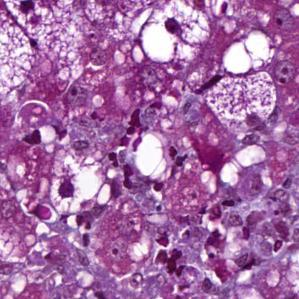ballooning: (129, 3, 210, 66), (206, 68, 277, 132), (48, 154, 114, 217), (6, 4, 59, 52)
